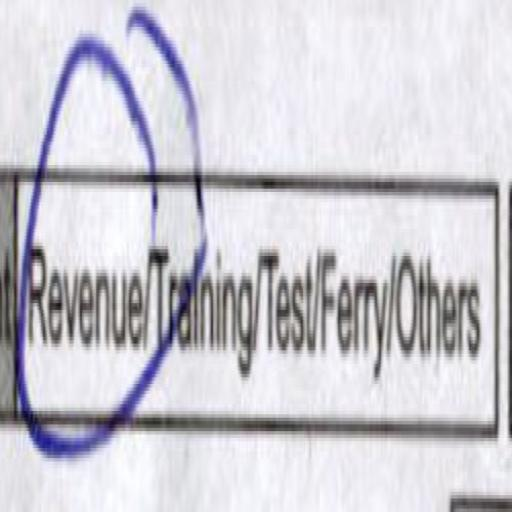check: (20, 74, 150, 512)
